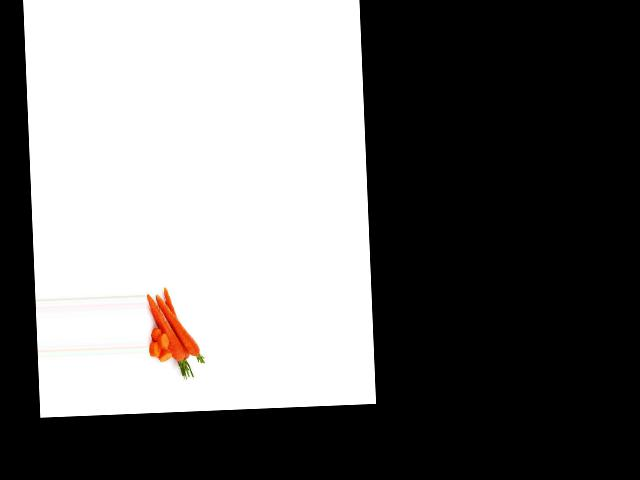carrot: (146, 293, 187, 370)
